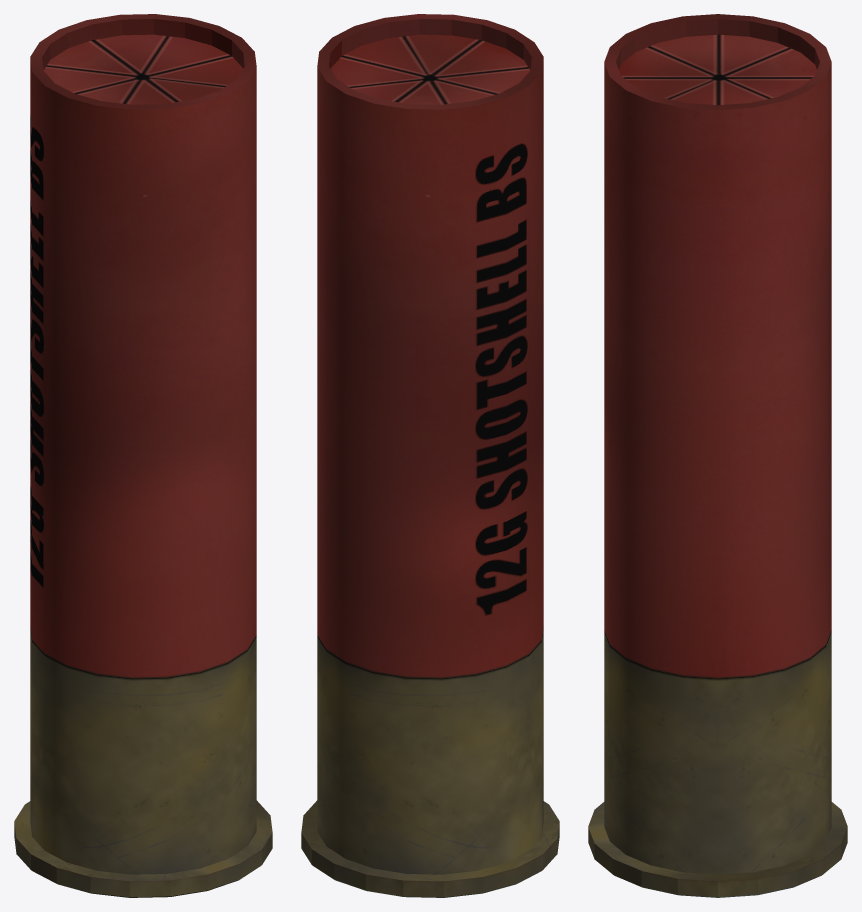
File: o_p_002_shotshell_01_01.fbx
The picture shows the model from 3 angles, left to right: view 1: azimuth 30°, elevation 25°; view 2: azimuth 150°, elevation 25°; view 3: azimuth 270°, elevation 25°; orthographic projection.
Visible parts, largest first — view 1: shotshell; view 2: shotshell; view 3: shotshell.
Part boxes in pixels (x1,y1,x2,y2): shotshell: (14,14,272,897); shotshell: (301,14,559,897); shotshell: (588,14,847,897).
Bounding box in the file's own units: 1.83 × 6.06 × 1.83.
1 material, 1 textured.
